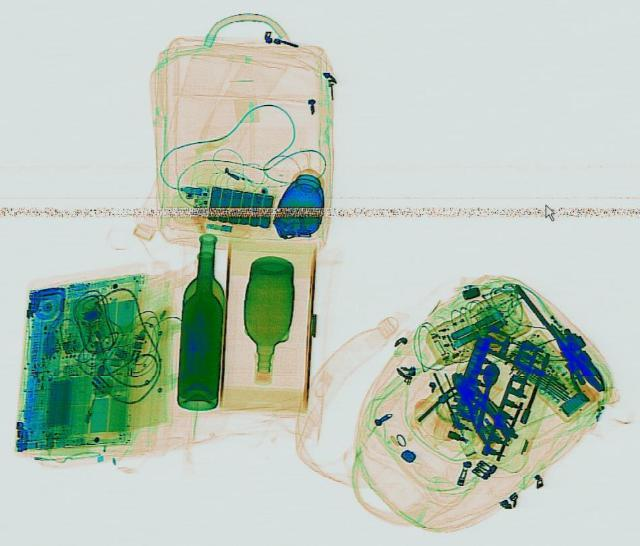Pliers: (438, 365, 516, 446), (538, 318, 610, 400)
